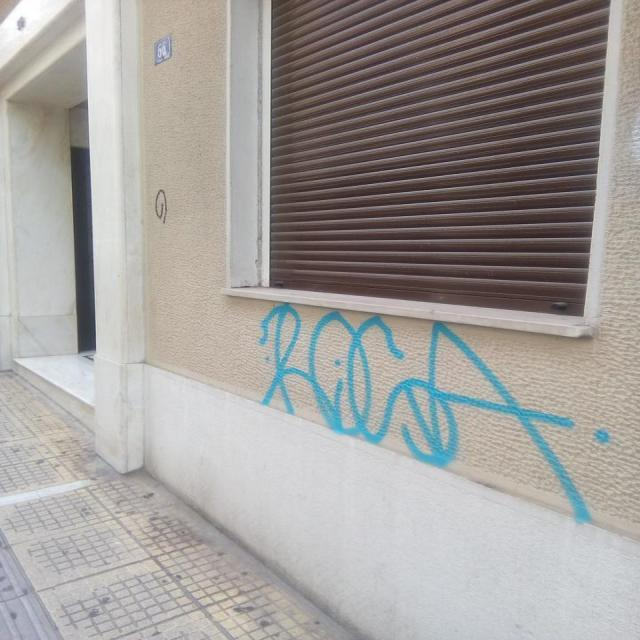nonspitting: (260, 302, 612, 526), (153, 189, 170, 227)
